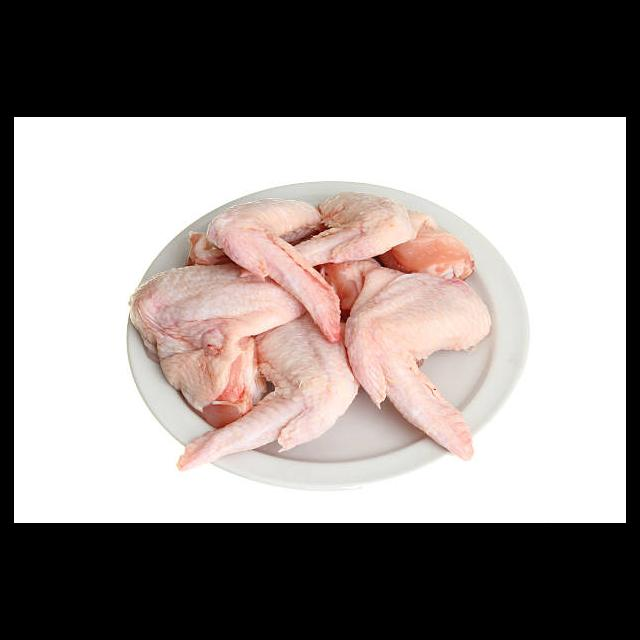chicken: (324, 254, 493, 464), (174, 308, 359, 474), (130, 262, 310, 424), (205, 197, 341, 343), (294, 194, 439, 265), (380, 210, 476, 280)
